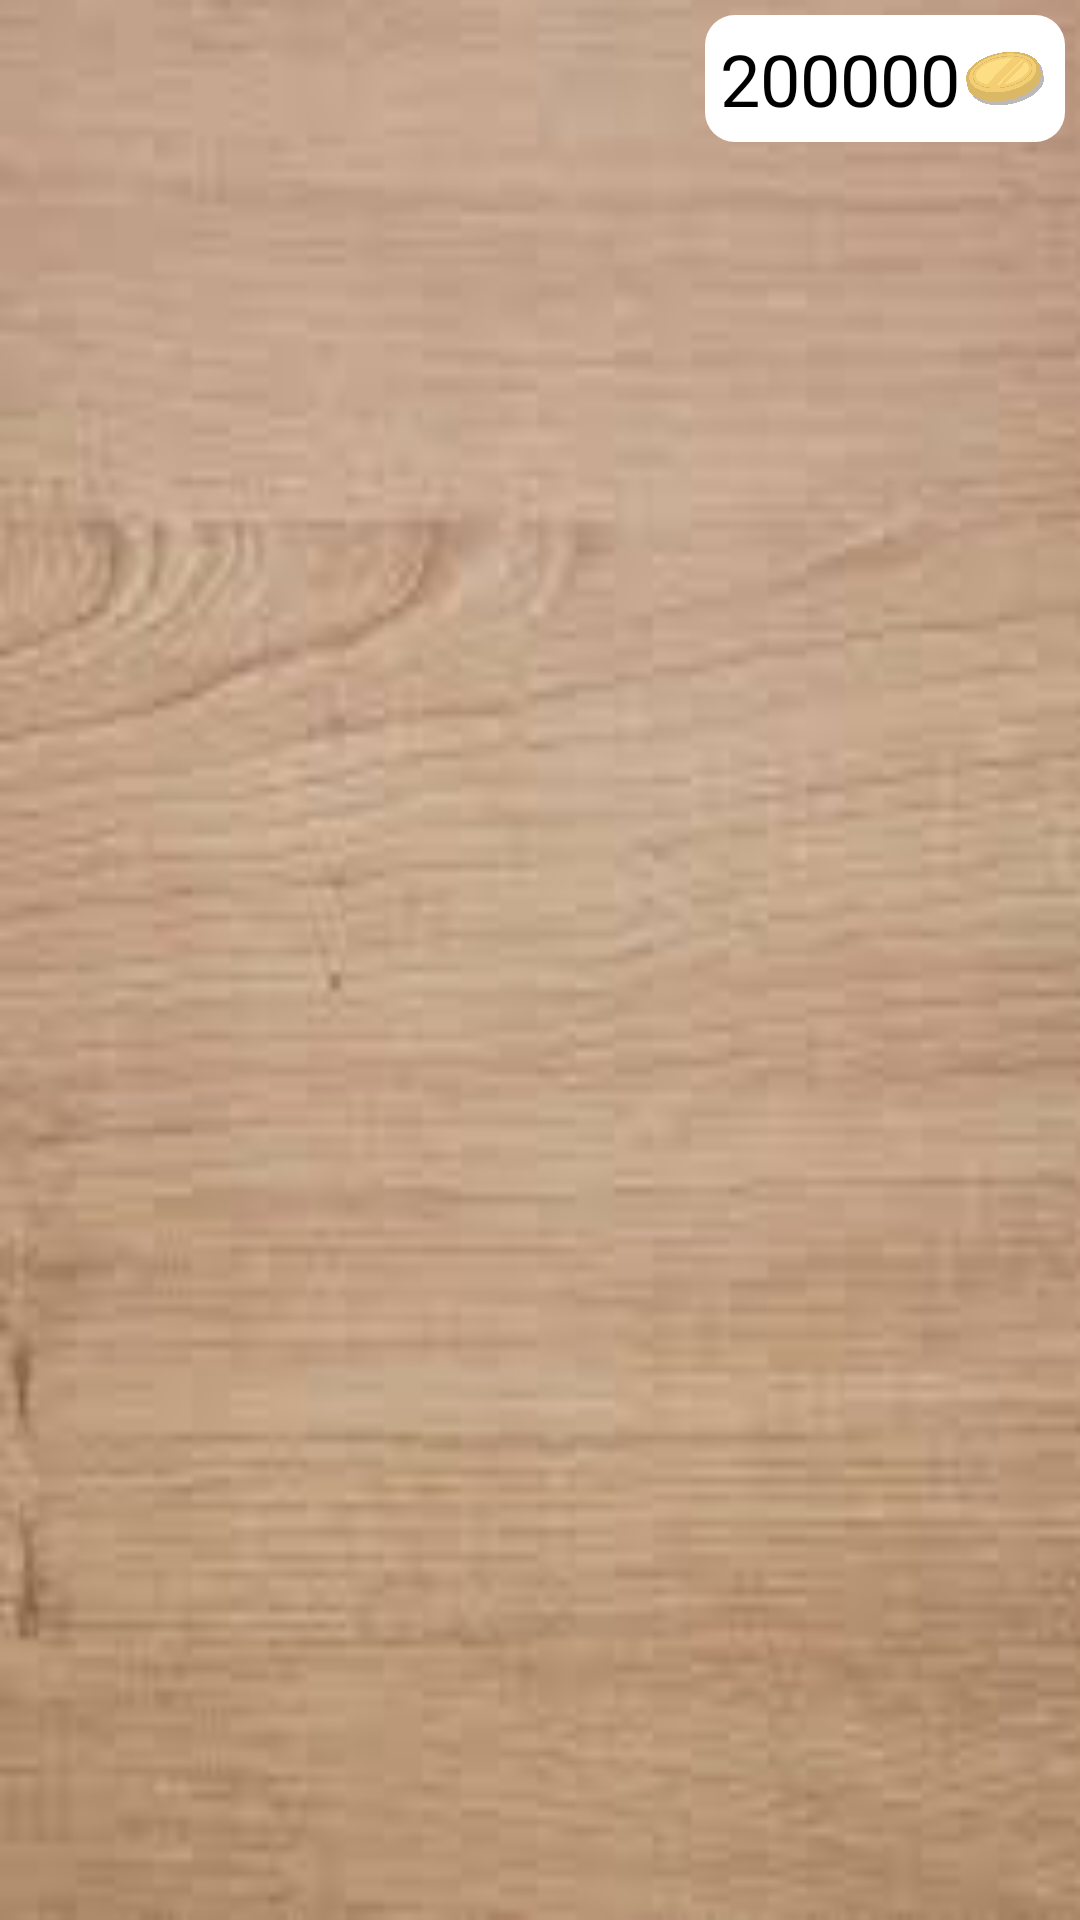

Where to tap for icons on this 1080x1920 app screen, as [x,y]:
coin: [1005,78]
